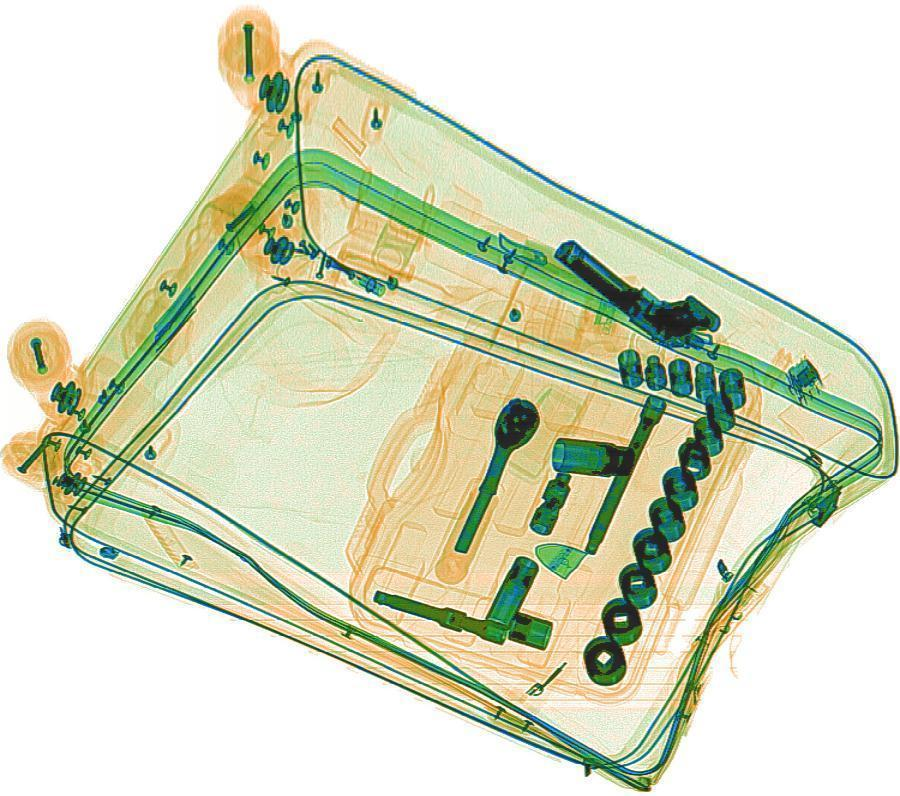Gun: (546, 215, 726, 360)
